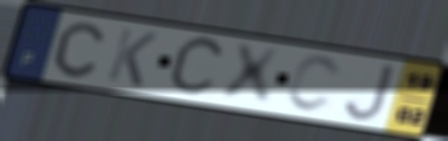C: (164, 34, 229, 99), (283, 53, 344, 115), (51, 20, 107, 79)
J: (342, 62, 398, 123)
K: (103, 25, 161, 90)
X: (219, 41, 285, 107)
